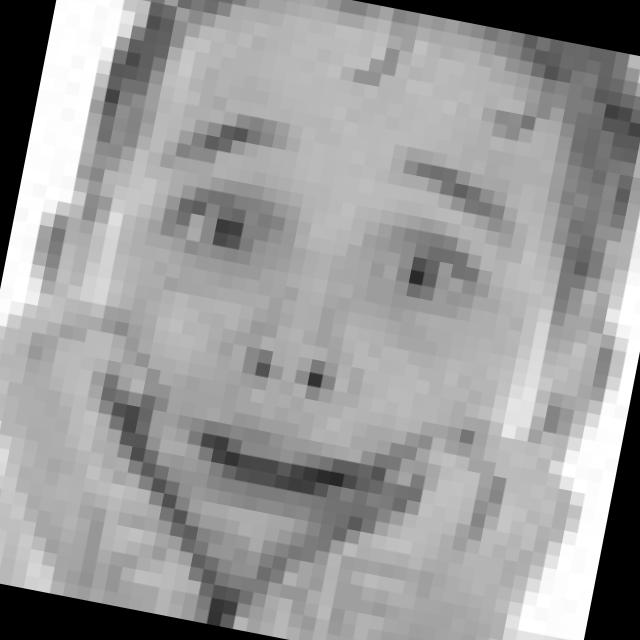fear: (95, 105, 534, 558)
